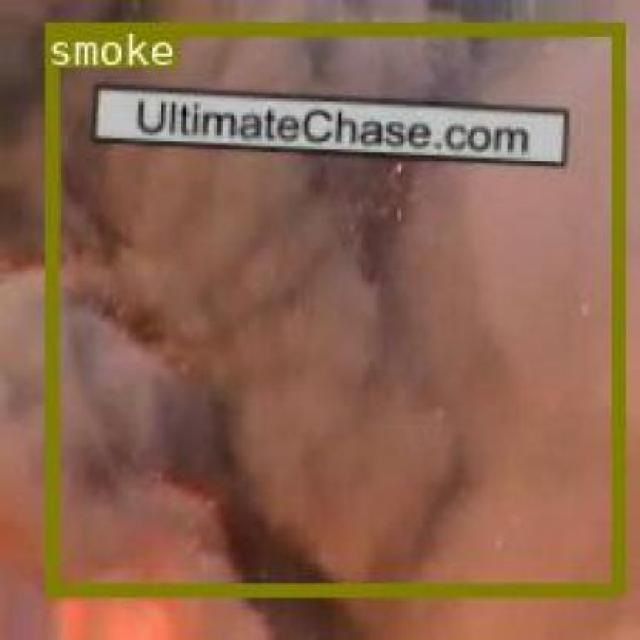smoke: (43, 21, 620, 594)
